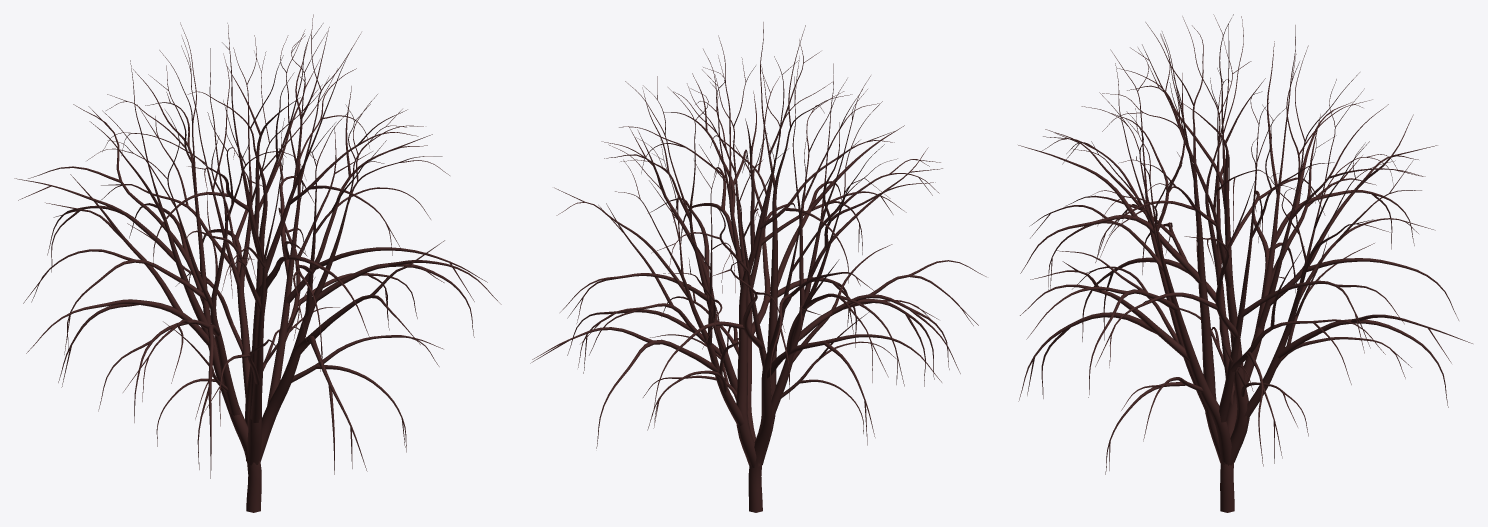
The model's file is tree.glb.
3 renders of one model, left to right at view 1: azimuth 30°, elevation 25°; view 2: azimuth 150°, elevation 25°; view 3: azimuth 270°, elevation 25°, orthographic. The views are drawn at different scales.
Parts seen in each view (by area): view 1: tree; view 2: tree; view 3: tree.
Boxes of the visible parts, box(x1,y1,x2,y2) form: tree: box(14, 14, 501, 512); tree: box(530, 22, 986, 512); tree: box(1018, 14, 1472, 512).
Bounding box in the file's own units: 5.41 × 6.48 × 5.47.
